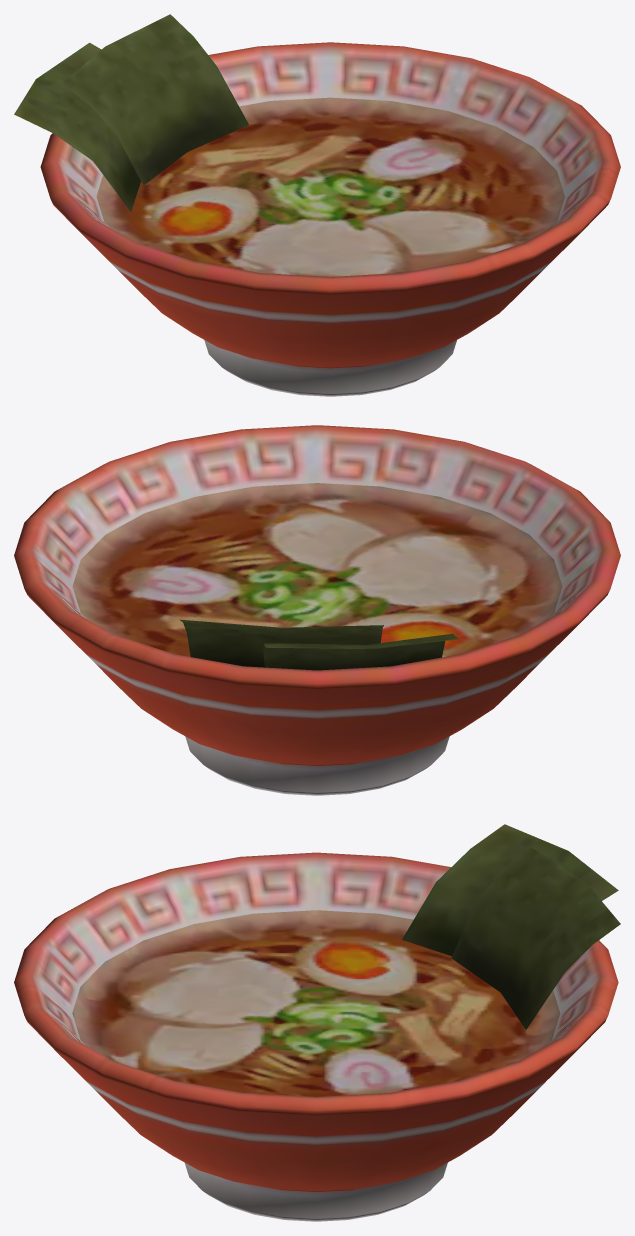
The picture shows the model from 3 angles, top to bottom: view 1: azimuth 30°, elevation 25°; view 2: azimuth 150°, elevation 25°; view 3: azimuth 270°, elevation 25°; orthographic projection. The views are drawn at different scales.
Size of the model in its own units: 7.64 by 3.32 by 7.67.
1 material, 1 textured.
